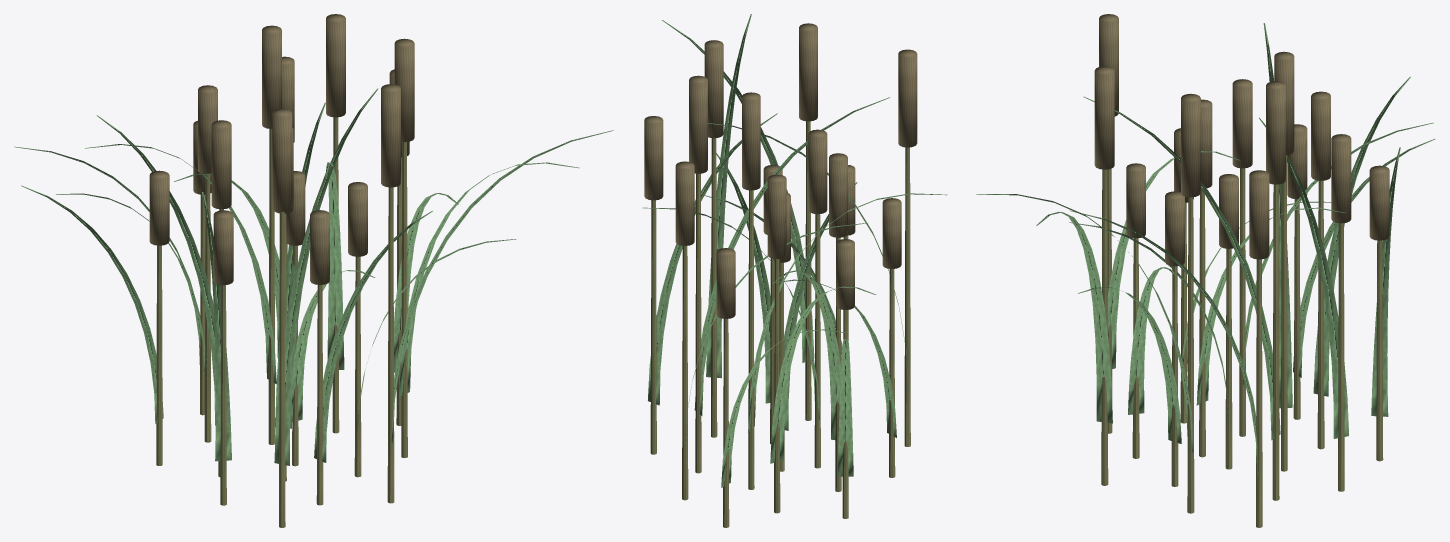
Rendered from cattail_clump_swamp_and_mangrove_22628.glb.
3 renders of one model, left to right at view 1: azimuth 30°, elevation 25°; view 2: azimuth 150°, elevation 25°; view 3: azimuth 270°, elevation 25°, orthographic. The views are drawn at different scales.
Visible parts, largest first — view 1: cattails; view 2: cattails; view 3: cattails.
Part boxes in pixels (x1,y1,x2,y2): cattails: (14, 14, 613, 527); cattails: (642, 14, 947, 527); cattails: (976, 14, 1435, 527).
Size of the model in its own units: 1.68 by 1.6 by 1.61.
Materials: 3 (3 with a texture image).
